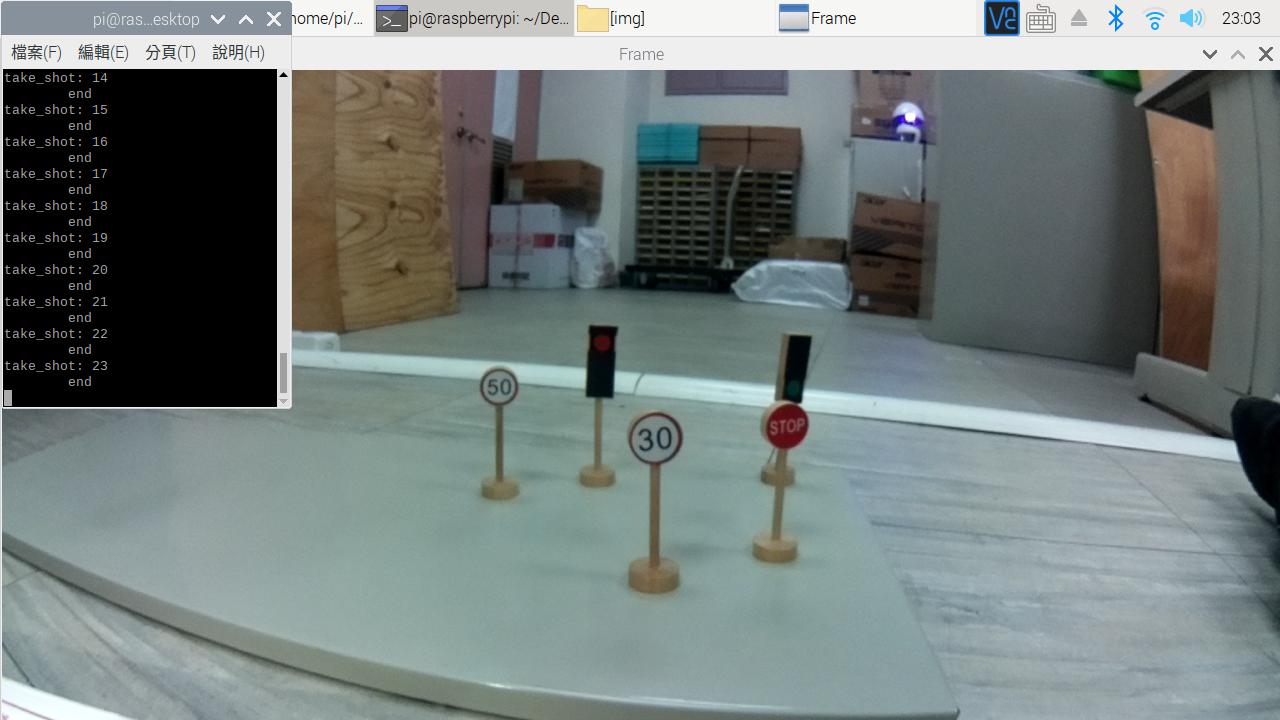Green: (780, 326, 805, 396)
Red: (588, 320, 615, 401)
Speed30: (623, 414, 684, 464)
Speed50: (474, 365, 520, 401)
Stop: (765, 408, 812, 444)
